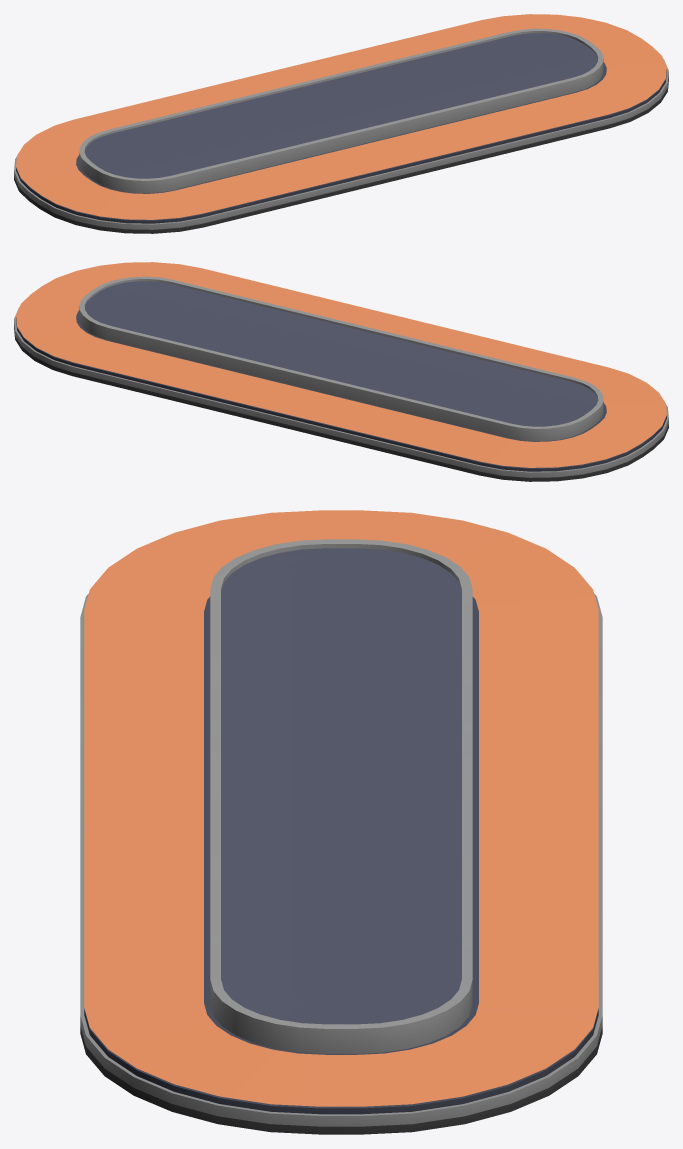
Rendered from BagsConveyor.FBX.
3 renders of one model, top to bottom at view 1: azimuth 30°, elevation 25°; view 2: azimuth 150°, elevation 25°; view 3: azimuth 270°, elevation 25°, orthographic. The views are drawn at different scales.
Parts seen in each view (by area): view 1: BagsConveyor; view 2: BagsConveyor; view 3: BagsConveyor.
Boxes of the visible parts, x1,y1,x2,y2 form: BagsConveyor: (14,14,668,233); BagsConveyor: (14,262,668,481); BagsConveyor: (80,510,602,1134).
Bounding box in the file's own units: 699 × 27.49 × 257.
2 materials, 1 textured.
